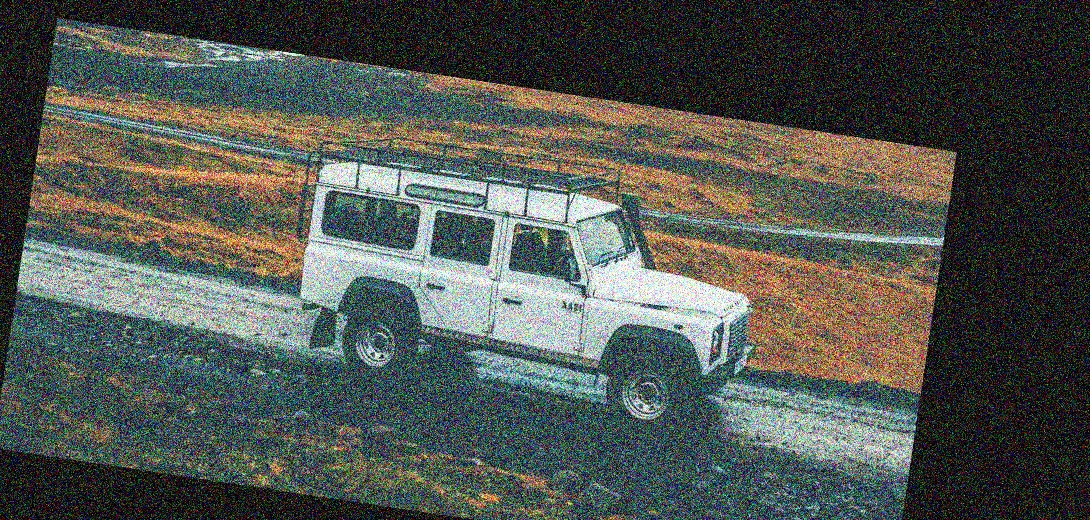car: (267, 109, 801, 462)
